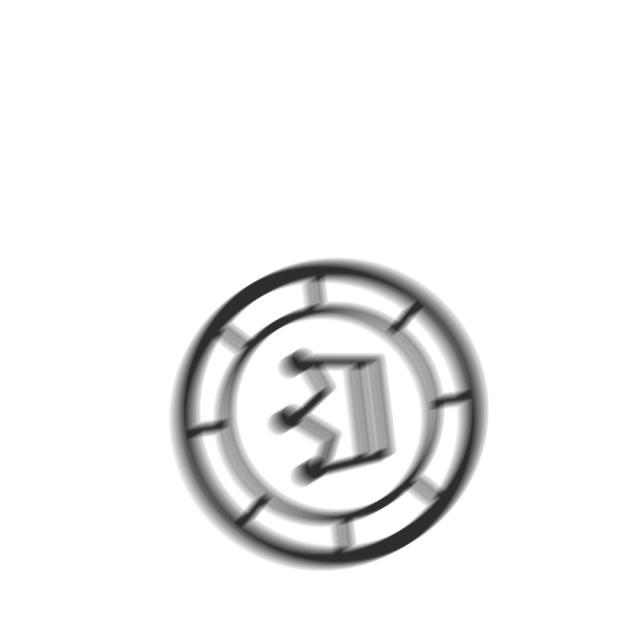coin: (157, 255, 493, 576)
